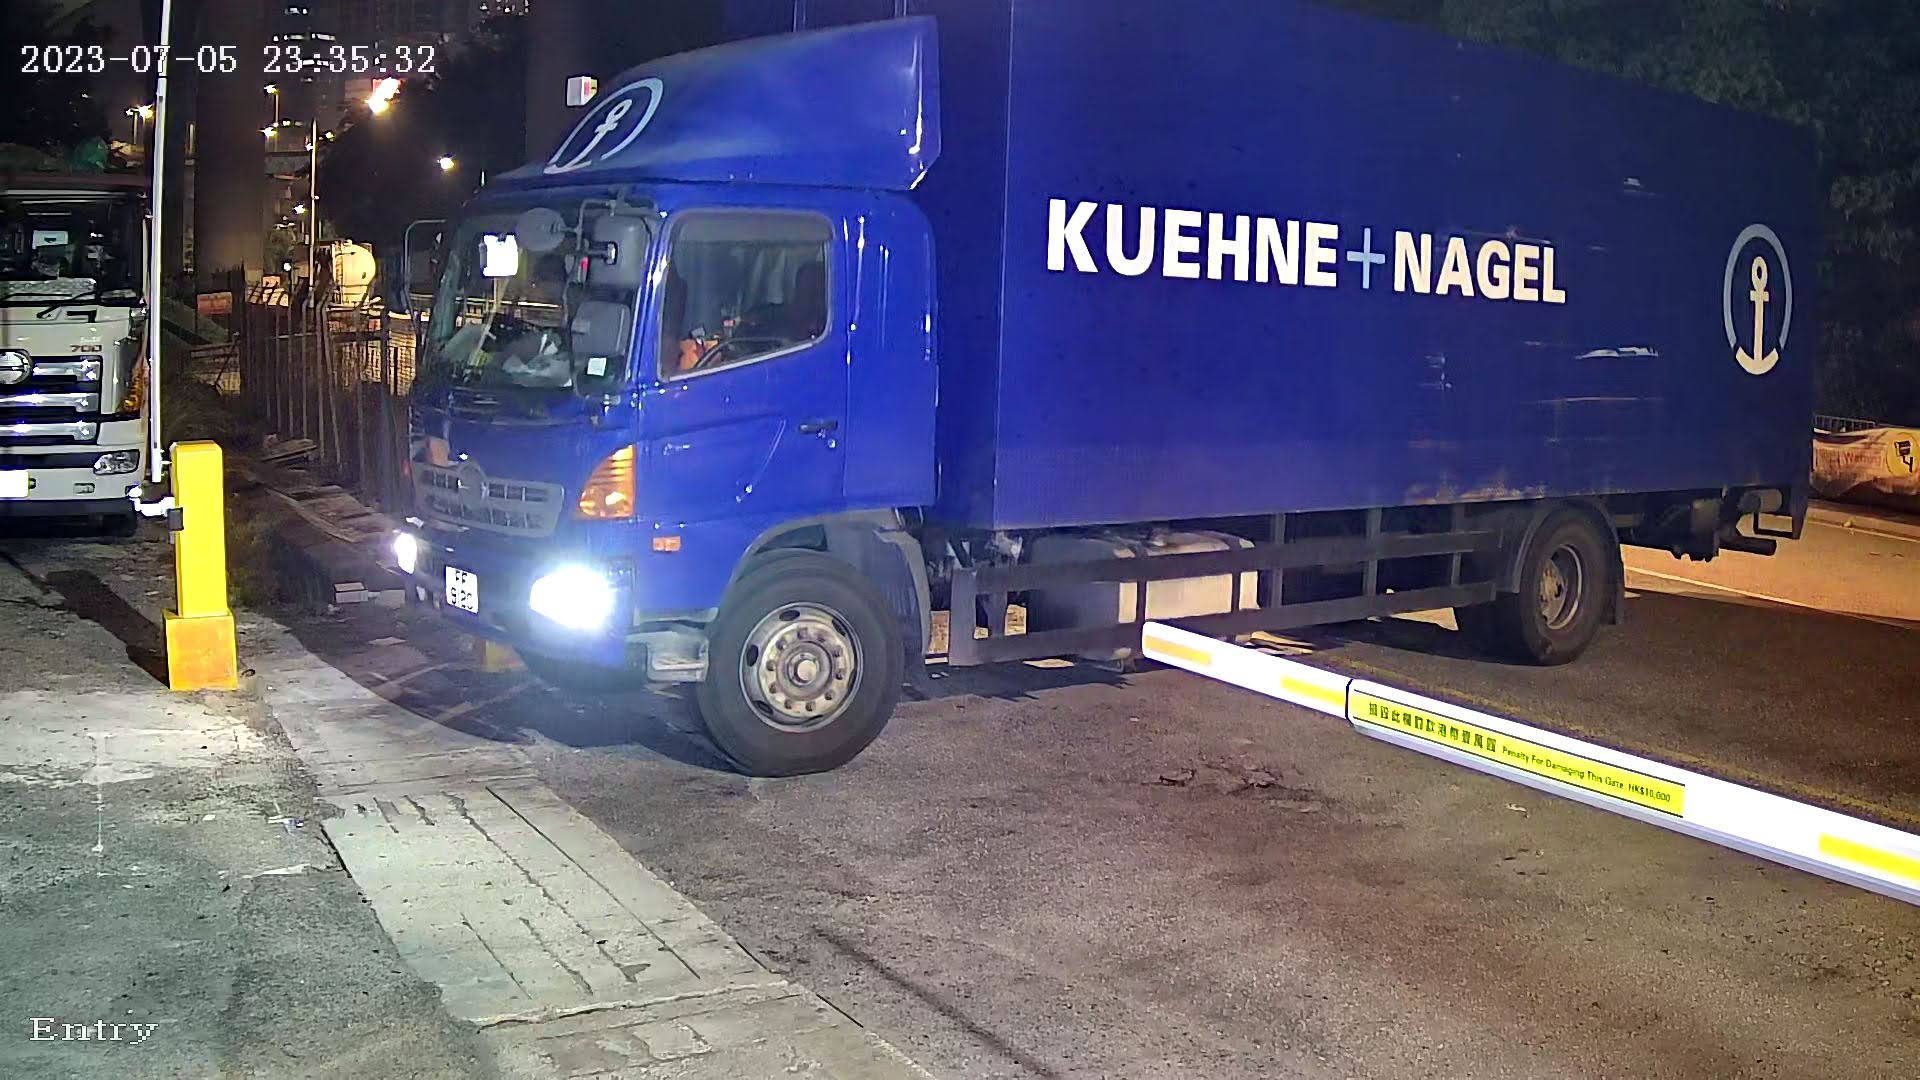truck_large: (324, 1, 1842, 796)
